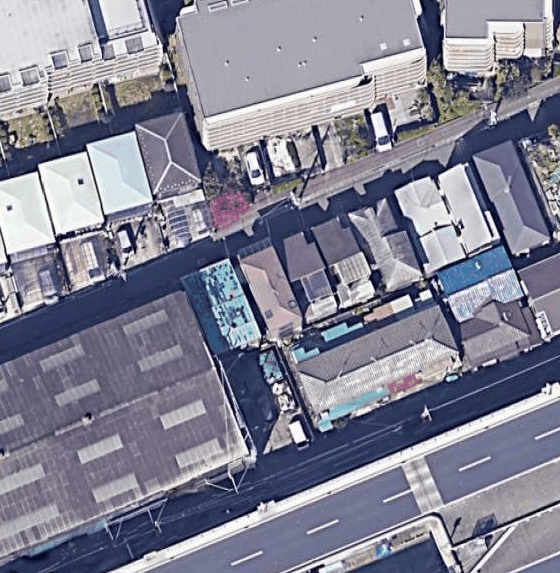flatroof: (171, 0, 416, 106)
